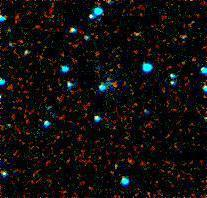star: (121, 20, 151, 50)
